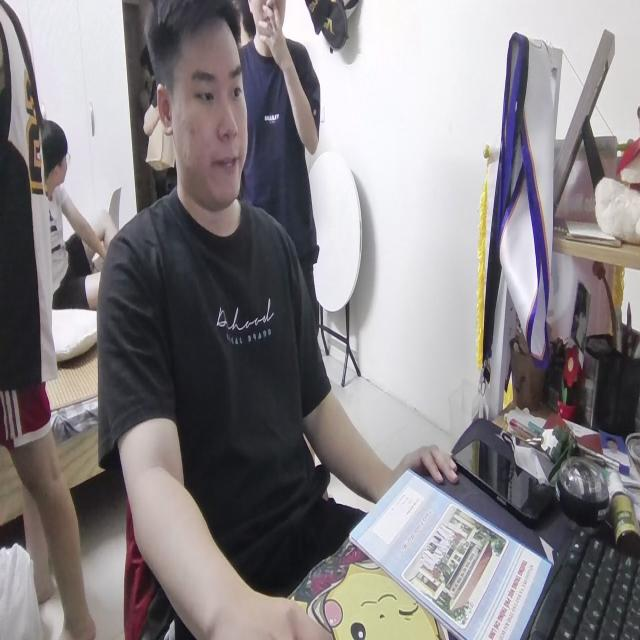book: (355, 459, 553, 640)
extra_person: (0, 0, 103, 640), (233, 0, 329, 320)
phone: (453, 434, 560, 534)
student: (99, 0, 452, 640)
